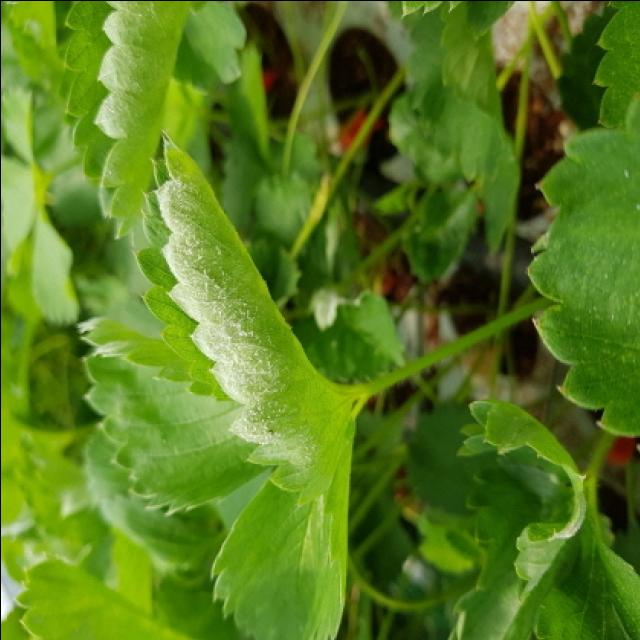Powdery Mildew Leaf: (131, 134, 365, 507), (58, 2, 196, 242), (455, 396, 590, 608)
